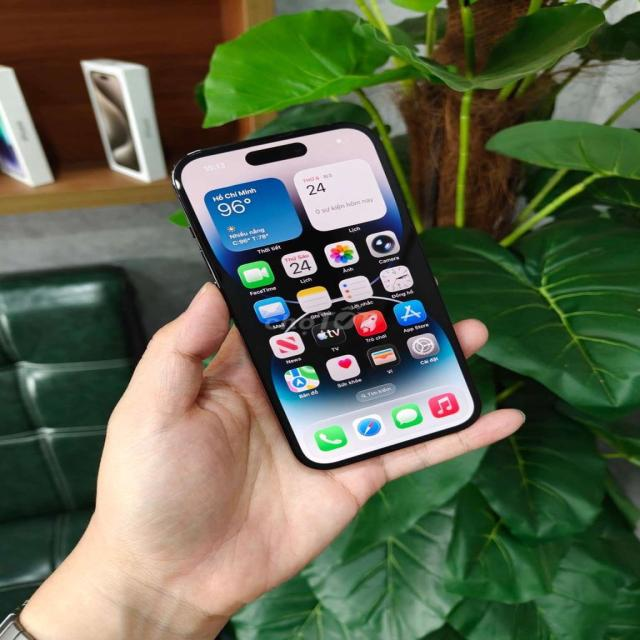gen_14: (164, 120, 483, 468)
